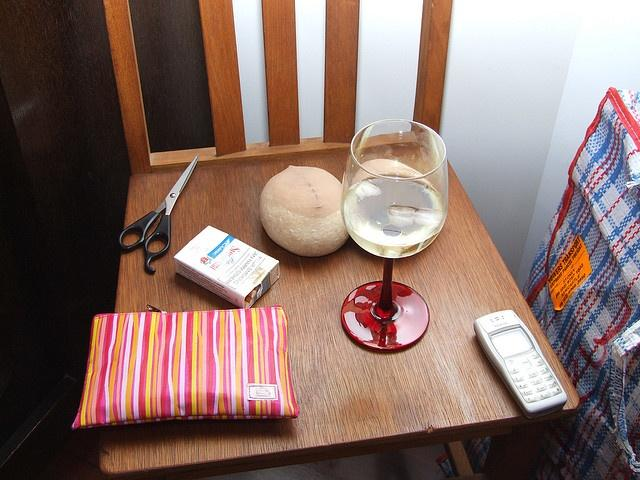Kursi: (94, 0, 580, 478)
